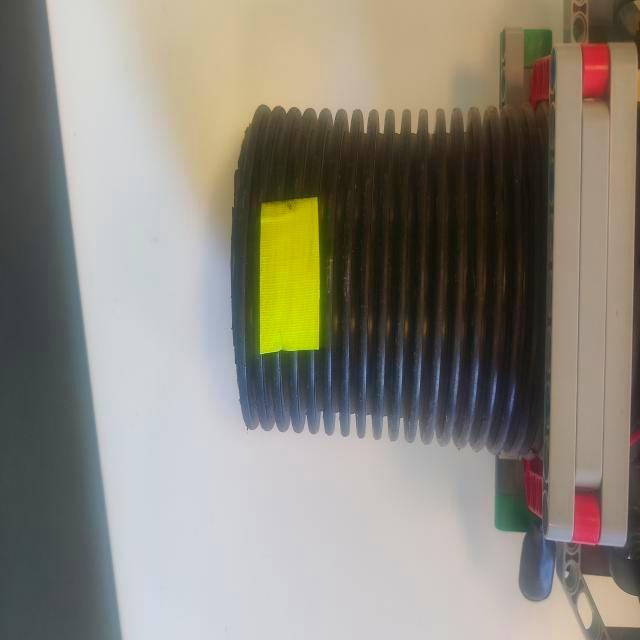robot-front: (234, 115, 528, 452)
